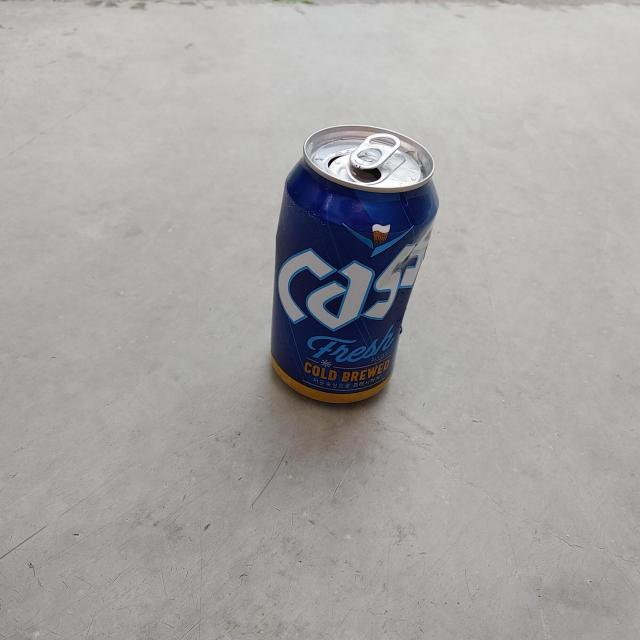can: (271, 124, 439, 403)
